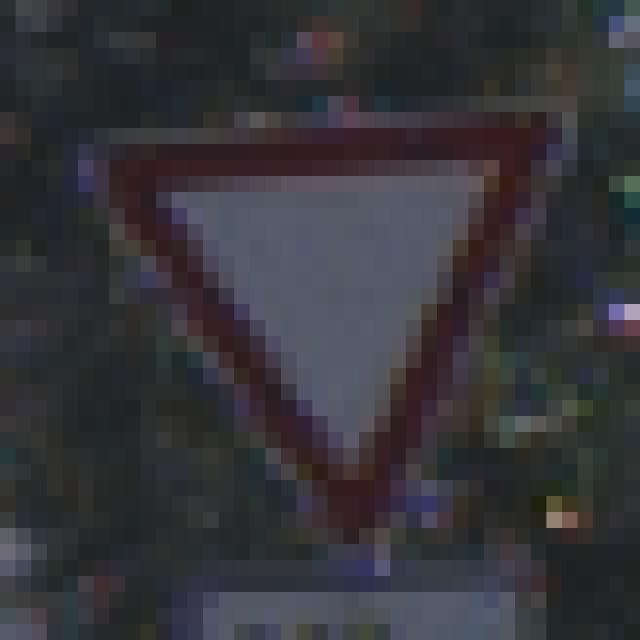Give Way: (79, 81, 563, 545)
